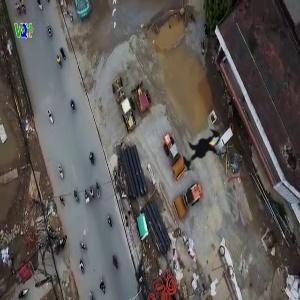drone: (166, 115, 246, 195)
